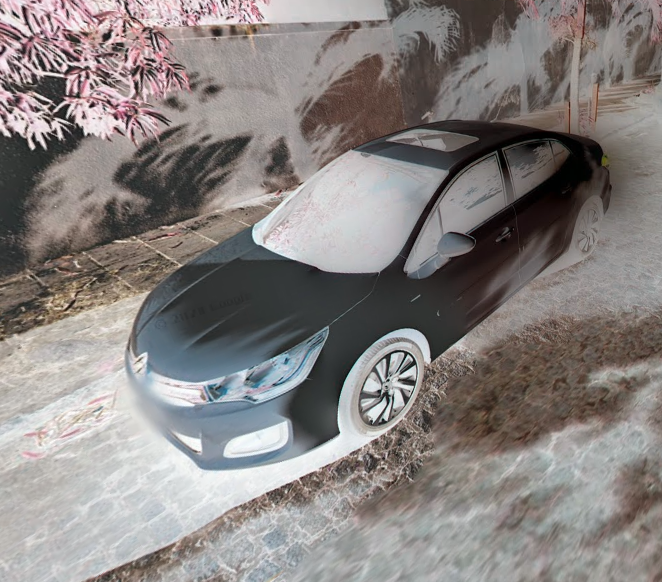car: (119, 115, 614, 474)
